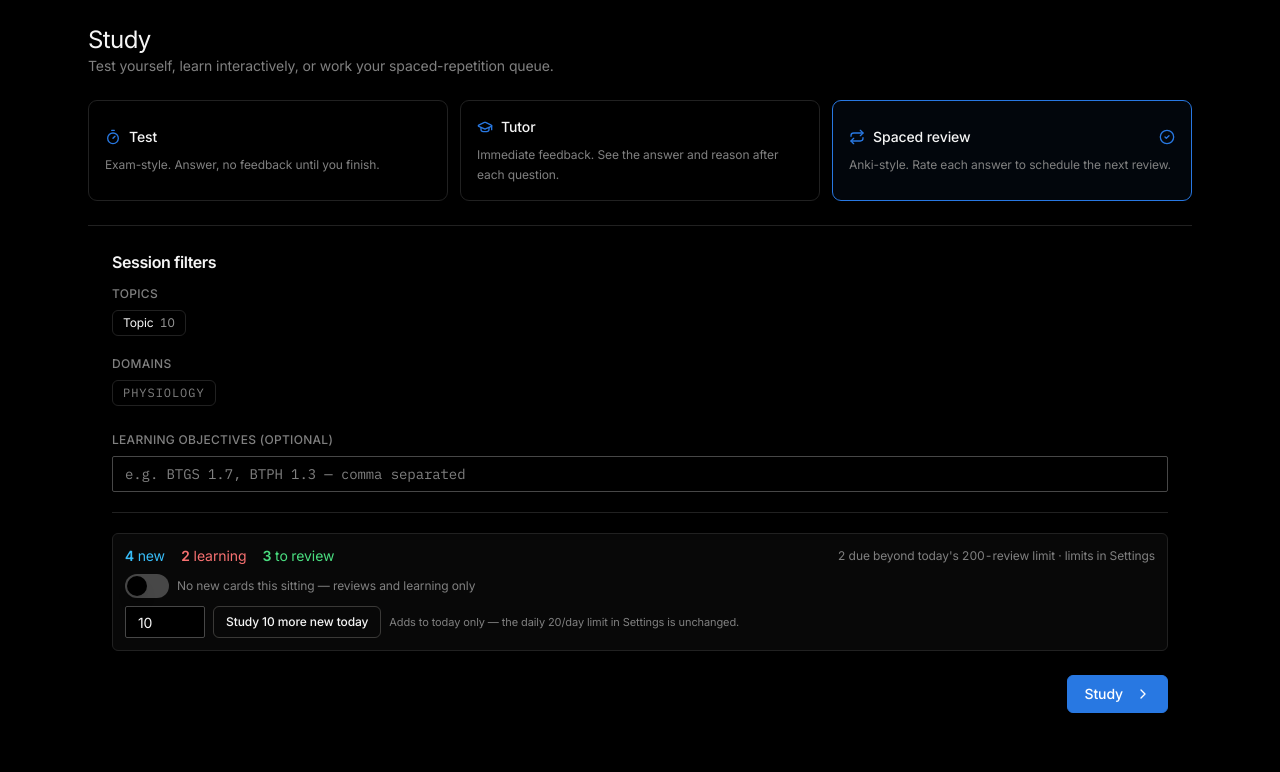
Test: SRS setup — spaced review, not a quiz builder › hides the quiz controls in SRS mode but keeps them for tutor
The width and height of the screenshot is (1280, 772).
Expected: the element with test id "srs-queue-stats" is shown, [112, 533, 1168, 651]
Click the button with test id "button-mode-tutor": coordinates (640, 150) [460, 100, 820, 201]
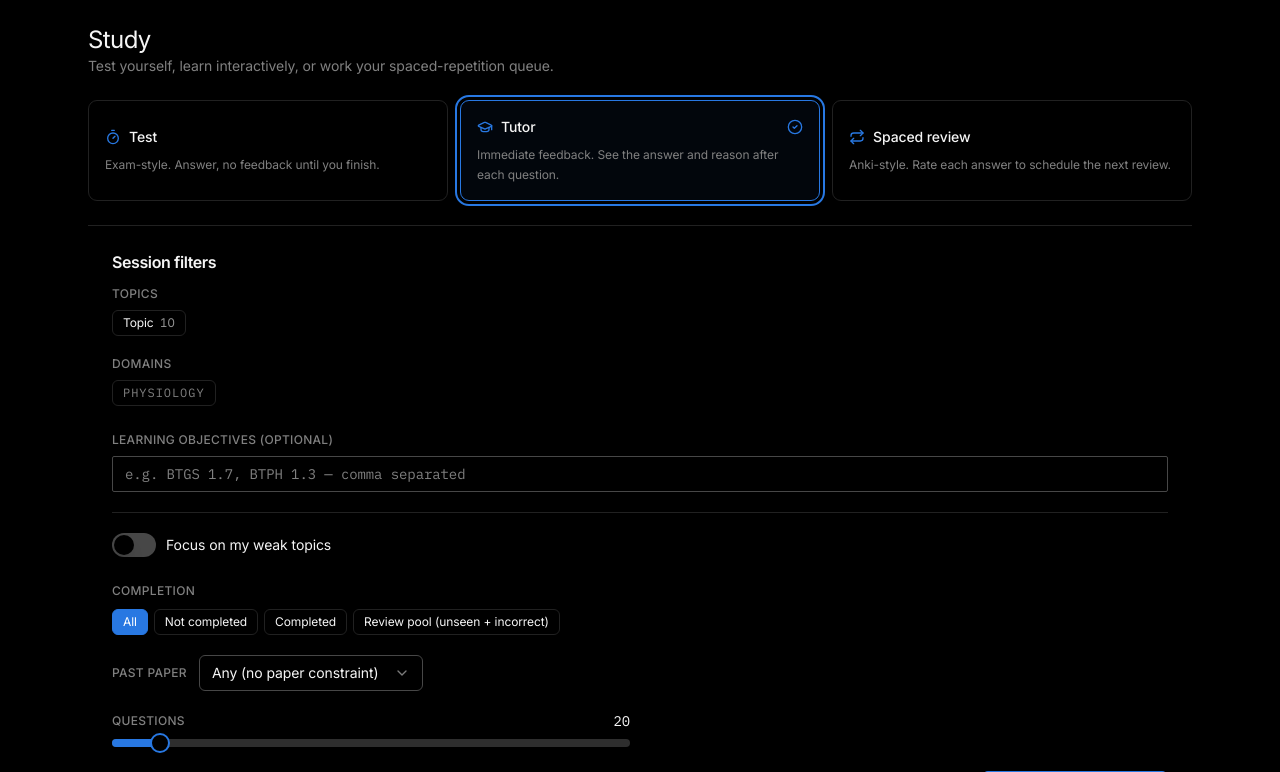
Expected: the button with test id "chip-completion-all" is shown, [112, 609, 148, 635]
Expected: the element with test id "slider-count" is shown, [112, 739, 630, 747]
Expected: the element with test id "srs-queue-stats" is gone
